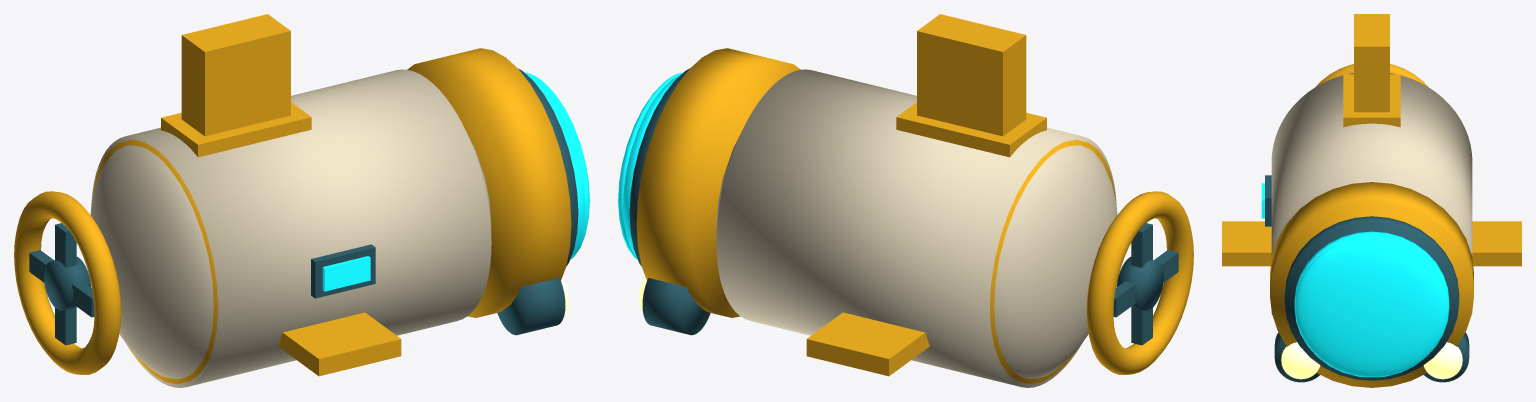
The model's file is submarine.glb.
The picture shows the model from 3 angles, left to right: view 1: azimuth 30°, elevation 25°; view 2: azimuth 150°, elevation 25°; view 3: azimuth 270°, elevation 25°; orthographic projection. The views are drawn at different scales.
Visible parts, largest first — view 1: Submarine main hull, Nose rim, Rounded stern, Top fin, Open propeller ring, Side fin, Top fin pedestal, Lamp housing, Rear golden hull band, Propeller hub, Propeller blade.001, Sub side panel bezel (+5 smaller); view 2: Submarine main hull, Nose rim, Rounded stern, Top fin, Open propeller ring, Side fin.001, Top fin pedestal, Lamp housing.001, Rear golden hull band, Propeller hub, Propeller blade.001, Window frame (+3 smaller); view 3: Submarine main hull, Domed glass, Nose rim, Window frame, Top fin, Side fin.001, Side fin, Top fin pedestal, Lamp lens, Lamp lens.001, Cyan window, Open propeller ring (+3 smaller).
Boxes of the visible parts, box(x1,y1,x2,y2) form: Submarine main hull: box(91, 69, 491, 387); Nose rim: box(407, 48, 571, 317); Rounded stern: box(90, 145, 213, 379); Top fin: box(181, 14, 290, 136); Open propeller ring: box(14, 191, 121, 374); Side fin: box(278, 312, 401, 376); Top fin pedestal: box(161, 102, 311, 157); Lamp housing: box(497, 278, 565, 335); Rear golden hull band: box(92, 139, 217, 384); Propeller hub: box(44, 257, 91, 310); Propeller blade.001: box(55, 223, 76, 345); Sub side panel bezel: box(311, 244, 375, 298); Submarine main hull: box(716, 69, 1116, 387); Nose rim: box(636, 48, 800, 317); Rounded stern: box(994, 145, 1117, 379); Top fin: box(917, 14, 1026, 136); Open propeller ring: box(1086, 191, 1193, 374); Side fin.001: box(806, 312, 929, 376); Top fin pedestal: box(896, 102, 1046, 157); Lamp housing.001: box(642, 278, 710, 335); Rear golden hull band: box(990, 139, 1115, 384); Propeller hub: box(1116, 257, 1163, 310); Propeller blade.001: box(1131, 223, 1152, 345); Window frame: box(629, 68, 689, 266); Submarine main hull: box(1271, 73, 1472, 255); Domed glass: box(1294, 237, 1449, 377); Nose rim: box(1270, 182, 1473, 387); Window frame: box(1284, 216, 1459, 380); Top fin: box(1354, 14, 1389, 112); Side fin.001: box(1472, 221, 1521, 266); Side fin: box(1222, 221, 1271, 266); Top fin pedestal: box(1343, 74, 1400, 127); Lamp lens: box(1281, 342, 1320, 379); Lamp lens.001: box(1423, 342, 1462, 379); Cyan window: box(1294, 231, 1449, 304); Open propeller ring: box(1316, 64, 1427, 86).
Bounding box in the file's own units: 3.4 × 2.14 × 2.28.
